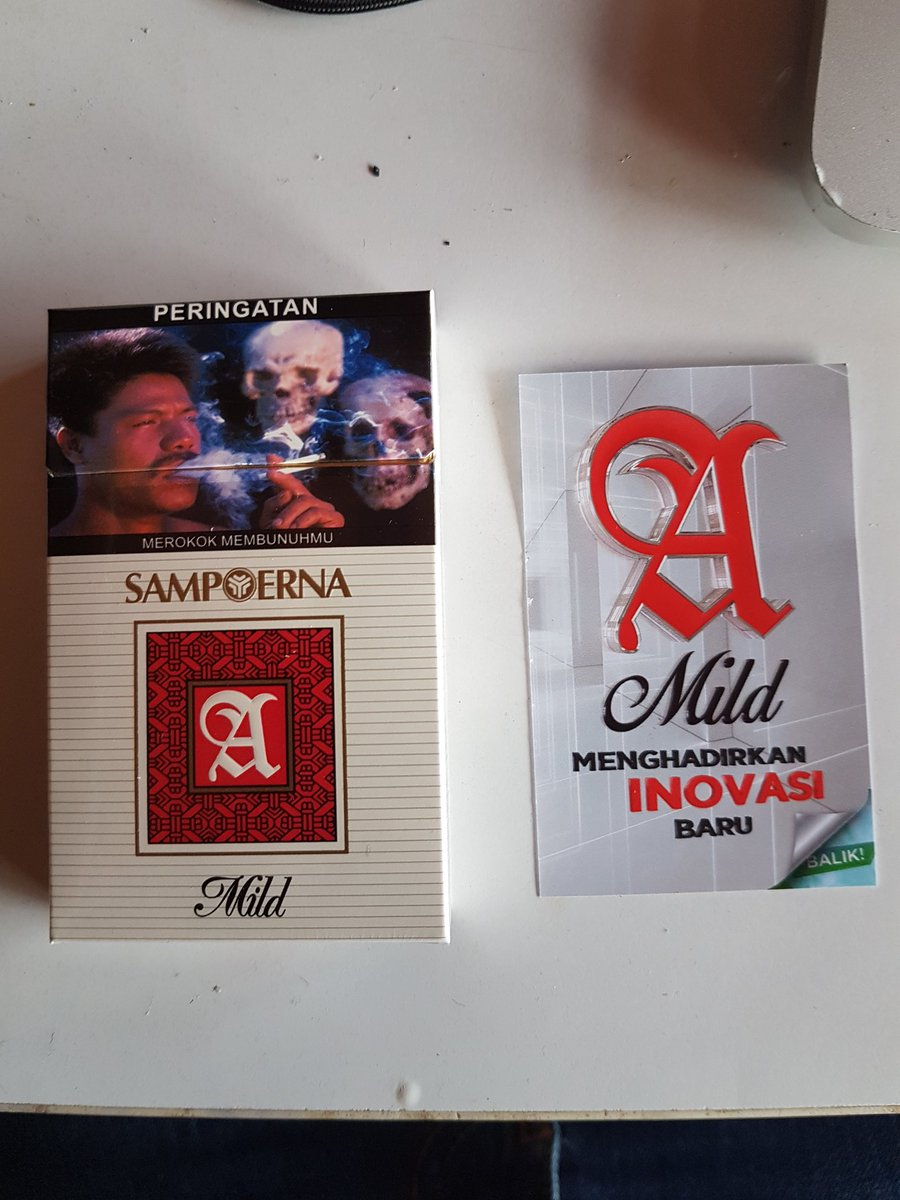A Mild: (53, 555, 444, 940)
